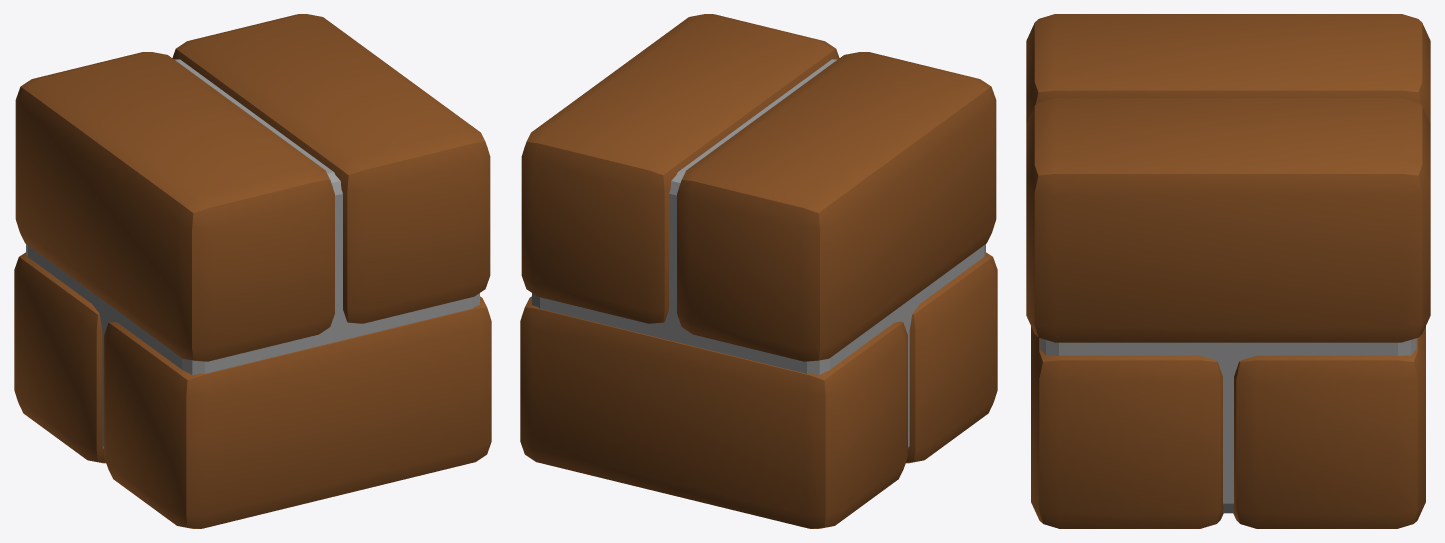
File: Block_Brick.fbx
The picture shows the model from 3 angles, left to right: view 1: azimuth 30°, elevation 25°; view 2: azimuth 150°, elevation 25°; view 3: azimuth 270°, elevation 25°; orthographic projection. The views are drawn at different scales.
Parts seen in each view (by area): view 1: Block_Brick; view 2: Block_Brick; view 3: Block_Brick.
Part boxes in pixels (bbox=[...]): Block_Brick: bbox=[14, 14, 491, 528]; Block_Brick: bbox=[520, 14, 997, 528]; Block_Brick: bbox=[1026, 14, 1430, 528].
Bounding box in the file's own units: 1.97 × 1.98 × 1.97.
1 material, 1 textured.
